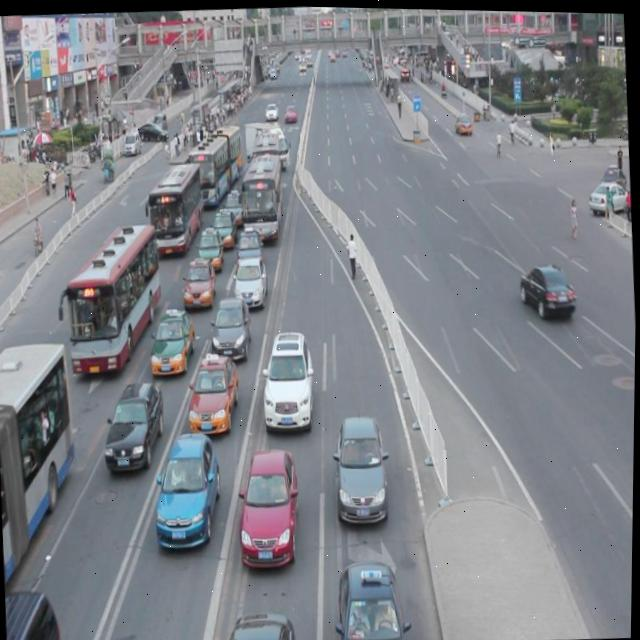bus: (244, 120, 291, 168)
car: (152, 428, 226, 547), (237, 445, 303, 564), (333, 557, 414, 640), (333, 412, 392, 521), (103, 378, 168, 471), (260, 327, 317, 429), (188, 349, 243, 432), (518, 259, 578, 317), (149, 306, 198, 377), (7, 587, 62, 640), (210, 294, 254, 358), (226, 610, 297, 640), (181, 256, 218, 308), (232, 257, 269, 307), (587, 177, 632, 212), (196, 226, 225, 271), (234, 225, 264, 264), (211, 207, 238, 248), (221, 188, 244, 224), (455, 110, 472, 134)
van: (0, 340, 84, 581), (53, 219, 166, 375), (144, 159, 205, 255), (186, 120, 245, 206), (238, 153, 285, 241), (250, 129, 282, 182)
